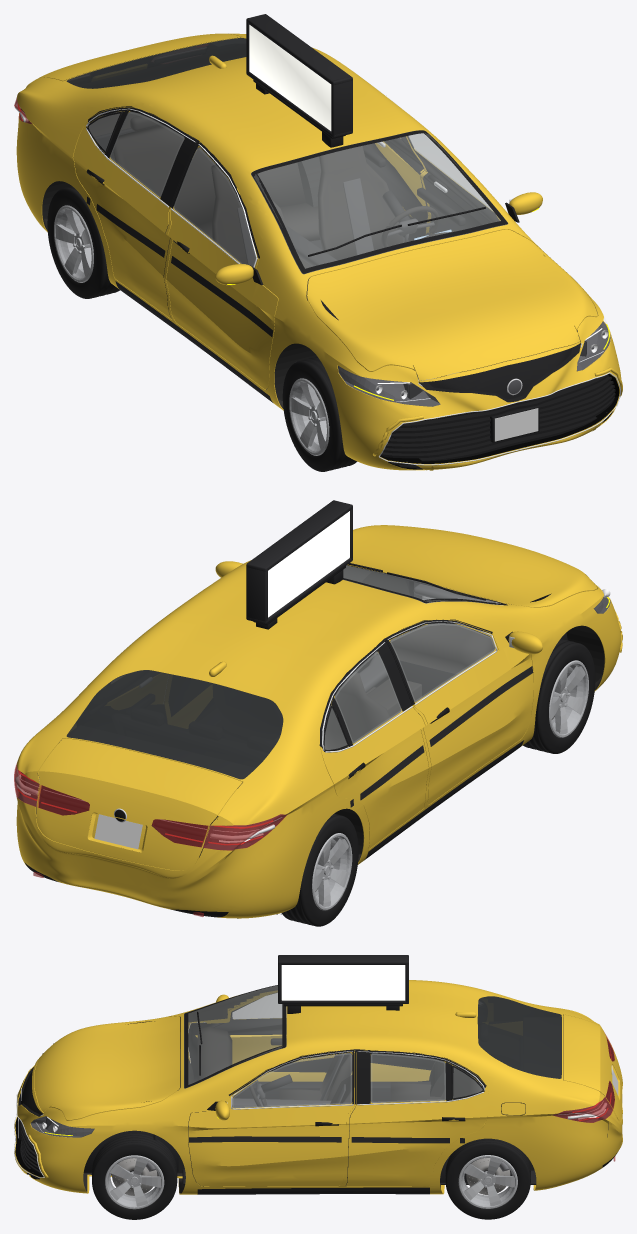
Rendered from taxiAdBoard-lod0.glb.
3 views of the same model, one above another, from view 1: azimuth 30°, elevation 25°; view 2: azimuth 150°, elevation 25°; view 3: azimuth 270°, elevation 25° (orthographic). The views are drawn at different scales.
Parts seen in each view (by area): view 1: Body, HoodSkin, Windscreen, Panel_FR, Panel_RR, Grille_Lower_Grille, SeatMesh_Rear_Back, Seat_FL_Back, Window_FR, TaxiSign, RearWindow, Window_RR (+24 smaller); view 2: Body, TrunkSkin, RearWindow, HoodSkin, Panel_FR, Panel_RR, Window_FR, TaxiSign, Dash, Window_RR, Wheel_FR_Tyre, Wheel_RR_Tyre (+22 smaller); view 3: Body, Panel_FL, HoodSkin, Panel_RL, Windscreen, RearWindow, Window_FL, TaxiSign, Panel_FR, Wheel_FL_Tyre, TrunkSkin, Window_RL (+27 smaller).
Boxes of the visible parts, left/top/right/bottom form: Body: left=16, top=33, right=621, bottom=470; HoodSkin: left=307, top=229, right=597, bottom=382; Windscreen: left=251, top=130, right=507, bottom=273; Panel_FR: left=166, top=142, right=278, bottom=389; Panel_RR: left=73, top=107, right=196, bottom=318; Grille_Lower_Grille: left=381, top=374, right=615, bottom=461; SeatMesh_Rear_Back: left=113, top=125, right=305, bottom=226; Seat_FL_Back: left=317, top=146, right=402, bottom=260; Window_FR: left=173, top=147, right=255, bottom=266; TaxiSign: left=249, top=25, right=331, bottom=130; RearWindow: left=66, top=38, right=246, bottom=88; Window_RR: left=110, top=112, right=184, bottom=197; Body: left=16, top=560, right=621, bottom=918; TrunkSkin: left=36, top=738, right=242, bottom=870; RearWindow: left=66, top=670, right=283, bottom=779; HoodSkin: left=350, top=525, right=597, bottom=607; Panel_FR: left=386, top=619, right=533, bottom=804; Panel_RR: left=320, top=640, right=428, bottom=848; Window_FR: left=390, top=623, right=494, bottom=702; TaxiSign: left=268, top=511, right=349, bottom=617; Dash: left=374, top=623, right=494, bottom=674; Window_RR: left=335, top=651, right=401, bottom=743; Wheel_FR_Tyre: left=523, top=638, right=595, bottom=753; Wheel_RR_Tyre: left=281, top=814, right=358, bottom=926; Body: left=14, top=980, right=622, bottom=1194; Panel_FL: left=188, top=1049, right=354, bottom=1186; HoodSkin: left=32, top=1016, right=179, bottom=1120; Panel_RL: left=346, top=1050, right=489, bottom=1186; Windscreen: left=184, top=985, right=286, bottom=1088; RearWindow: left=477, top=996, right=561, bottom=1078; Window_FL: left=232, top=1053, right=351, bottom=1107; TaxiSign: left=281, top=965, right=405, bottom=1000; Panel_FR: left=188, top=992, right=334, bottom=1081; Wheel_FL_Tyre: left=92, top=1133, right=177, bottom=1219; TrunkSkin: left=563, top=1014, right=622, bottom=1121; Window_RL: left=371, top=1053, right=445, bottom=1102.
Bounding box in the file's own units: 2.29 × 1.92 × 4.93.
